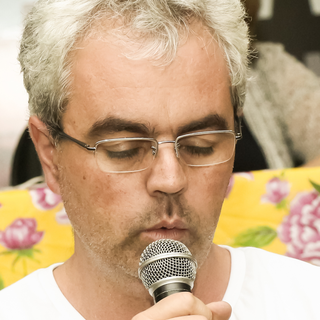eye: (176, 133, 216, 160)
